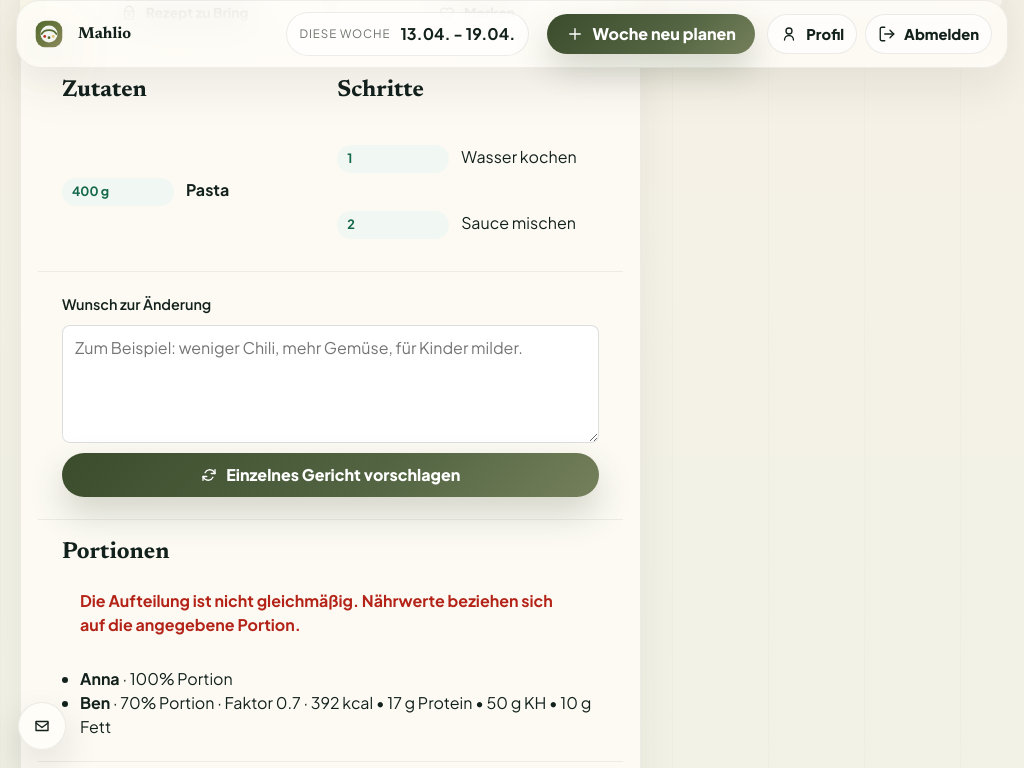
Test case: Mealplanner app › shows the updated meal after regeneration
(page scrolled)
Type "mehr Gemüse" into the text box labelled "Wunsch zur Änderung" at (330, 384), box [62,325,599,443]
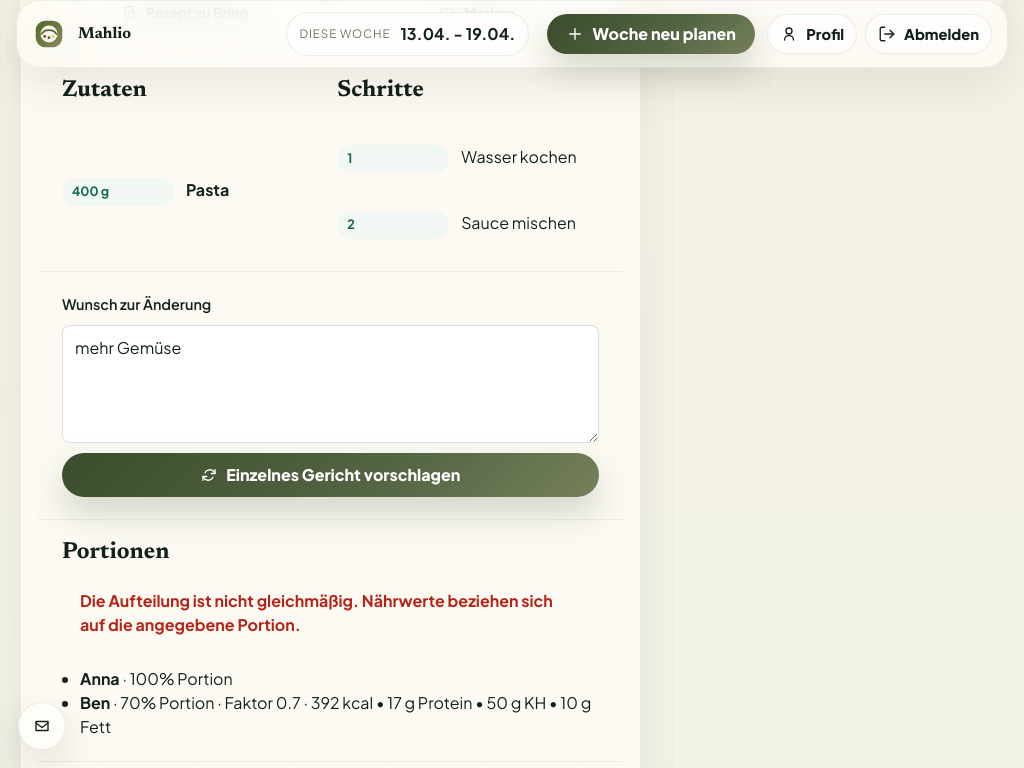
Click the button "Einzelnes Gericht vorschlagen" at (330, 475), box [62,453,599,497]
(page scrolled)
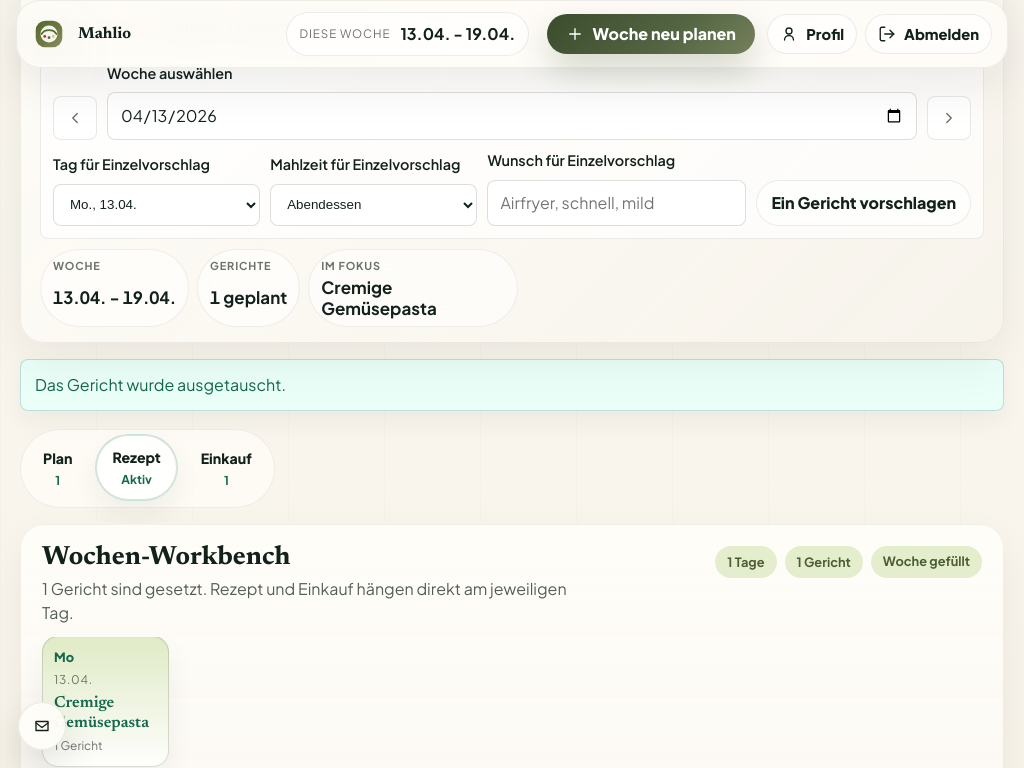
Result: the text "Cremige Gemüsepasta" next to "1 geplant" is shown at [321,276,437,318]
Result: the text "Das Gericht wurde ausgetauscht." is shown at [35,373,286,397]
